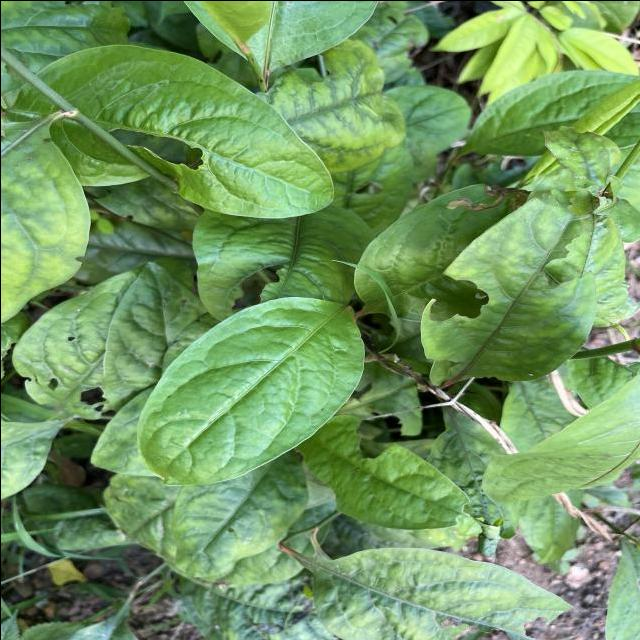Plumbago indica: (11, 39, 342, 220), (134, 294, 368, 488)
